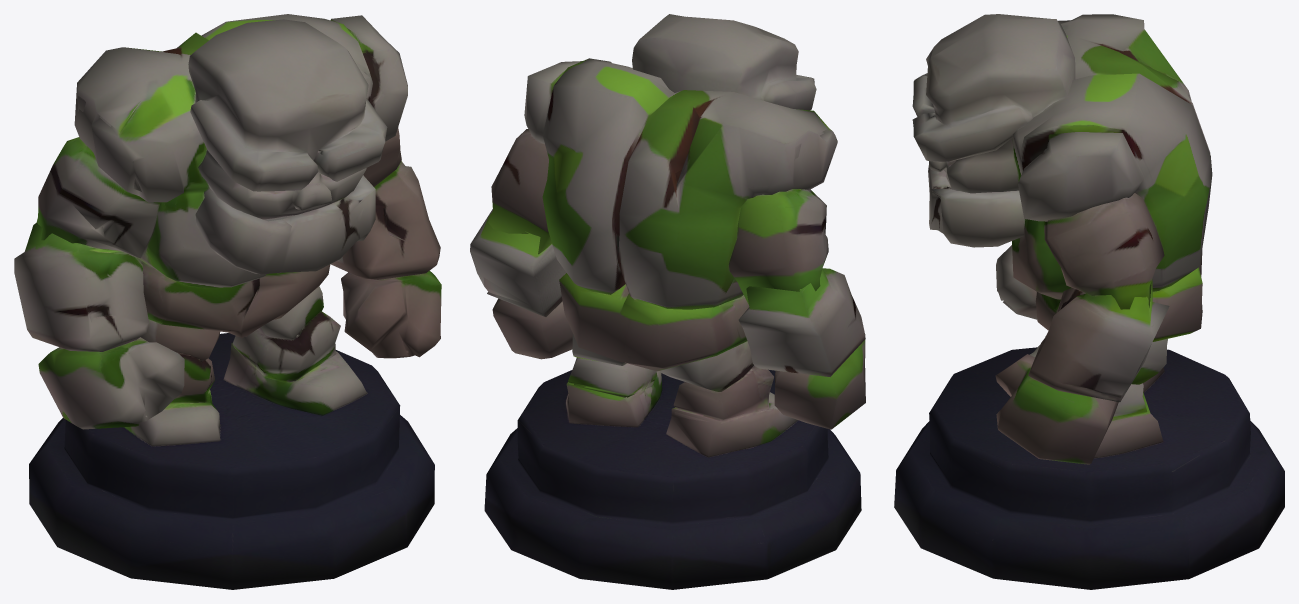
Rendered from Meshy_AI_Granite_Guardian_0726160153_texture.glb.
The picture shows the model from 3 angles, left to right: view 1: azimuth 30°, elevation 25°; view 2: azimuth 150°, elevation 25°; view 3: azimuth 270°, elevation 25°; orthographic projection. The views are drawn at different scales.
Parts seen in each view (by area): view 1: mesh_node; view 2: mesh_node; view 3: mesh_node.
Part boxes in pixels (x1=…): mesh_node: x1=14, y1=14, x2=441, y2=589; mesh_node: x1=470, y1=14, x2=865, y2=589; mesh_node: x1=894, y1=14, x2=1284, y2=589.
Size of the model in its own units: 0.8047 by 1 by 0.7422.
1 material, 1 textured.
